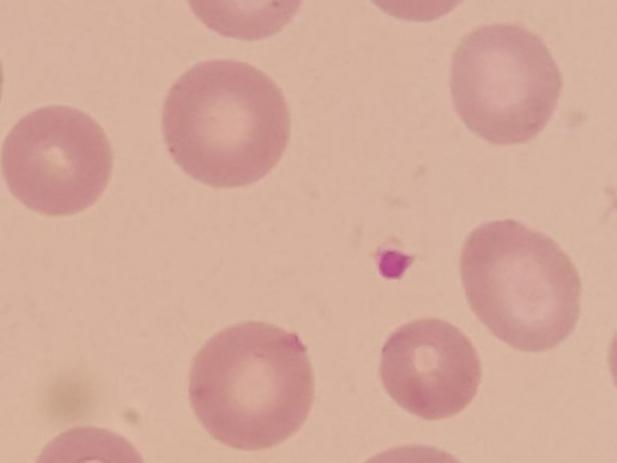Uninfected: (186, 320, 315, 449), (161, 59, 288, 190), (458, 218, 579, 350), (446, 20, 563, 143), (0, 102, 113, 215), (376, 317, 482, 422)
